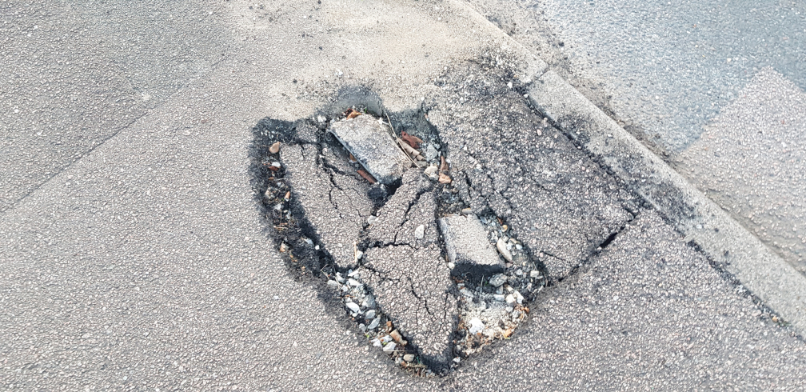pothole: (245, 60, 646, 382)
